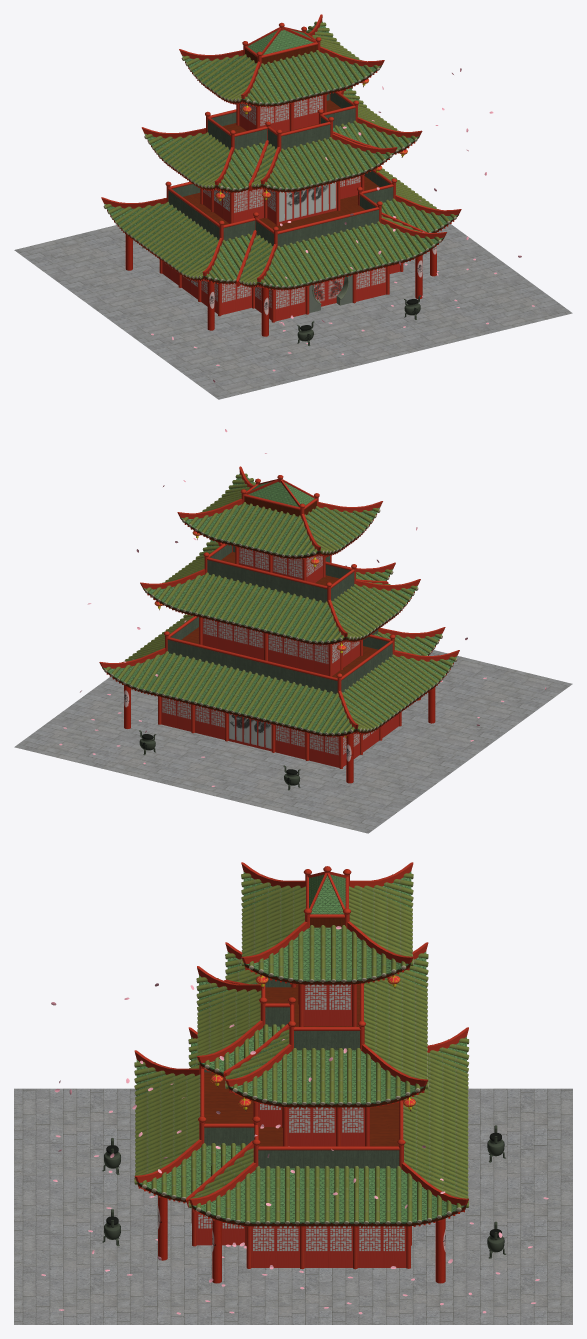
The picture shows the model from 3 angles, top to bottom: view 1: azimuth 30°, elevation 25°; view 2: azimuth 150°, elevation 25°; view 3: azimuth 270°, elevation 25°; orthographic projection. The views are drawn at different scales.
Parts seen in each view (by area): view 1: polySurface63, polySurface4802, polySurface4587, polySurface5249, polySurface5017, polySurface5114, polySurface5720, polySurface5812, polySurface5977, polySurface5622, polySurface5195, polySurface5682 (+10 smaller); view 2: polySurface63, polySurface4802, polySurface5401, polySurface4939, polySurface5249, polySurface5031, polySurface5720, polySurface5664, polySurface5812, polySurface4740, polySurface5107, polySurface5191 (+4 smaller); view 3: polySurface63, polySurface4802, polySurface5401, polySurface5540, polySurface4939, polySurface4587, polySurface4856, polySurface5017, polySurface5031, polySurface5114, polySurface5977, polySurface5761 (+24 smaller).
Boxes of the visible parts, x1=… form: polySurface63: x1=14, y1=224, x2=572, y2=399; polySurface4802: x1=104, y1=21, x2=459, y2=289; polySurface4587: x1=261, y1=221, x2=441, y2=288; polySurface5249: x1=103, y1=201, x2=218, y2=278; polySurface5017: x1=245, y1=50, x2=379, y2=105; polySurface5114: x1=264, y1=137, x2=392, y2=190; polySurface5720: x1=144, y1=132, x2=229, y2=188; polySurface5812: x1=181, y1=54, x2=257, y2=101; polySurface5977: x1=183, y1=176, x2=379, y2=231; polySurface5622: x1=277, y1=210, x2=378, y2=246; polySurface5195: x1=206, y1=233, x2=251, y2=282; polySurface5682: x1=218, y1=142, x2=265, y2=190; polySurface63: x1=14, y1=650, x2=572, y2=833; polySurface4802: x1=102, y1=473, x2=456, y2=736; polySurface5401: x1=104, y1=651, x2=354, y2=735; polySurface4939: x1=145, y1=572, x2=343, y2=643; polySurface5249: x1=341, y1=654, x2=457, y2=731; polySurface5031: x1=182, y1=502, x2=317, y2=557; polySurface5720: x1=331, y1=584, x2=418, y2=639; polySurface5664: x1=167, y1=640, x2=337, y2=693; polySurface5812: x1=304, y1=506, x2=380, y2=553; polySurface4740: x1=207, y1=560, x2=327, y2=602; polySurface5107: x1=341, y1=643, x2=392, y2=692; polySurface5191: x1=374, y1=631, x2=442, y2=655; polySurface63: x1=14, y1=1088, x2=572, y2=1324; polySurface4802: x1=136, y1=871, x2=466, y2=1226; polySurface5401: x1=403, y1=1038, x2=469, y2=1207; polySurface5540: x1=196, y1=1166, x2=461, y2=1224; polySurface4939: x1=364, y1=953, x2=428, y2=1088; polySurface4587: x1=134, y1=1062, x2=200, y2=1184; polySurface4856: x1=232, y1=1048, x2=420, y2=1105; polySurface5017: x1=241, y1=873, x2=305, y2=966; polySurface5031: x1=349, y1=873, x2=413, y2=966; polySurface5114: x1=196, y1=977, x2=261, y2=1064; polySurface5977: x1=204, y1=1072, x2=399, y2=1146; polySurface5761: x1=249, y1=925, x2=406, y2=982.
Bounding box in the file's own units: 68.01 × 45.83 × 68.01.
Materials: 4 (4 with a texture image).
